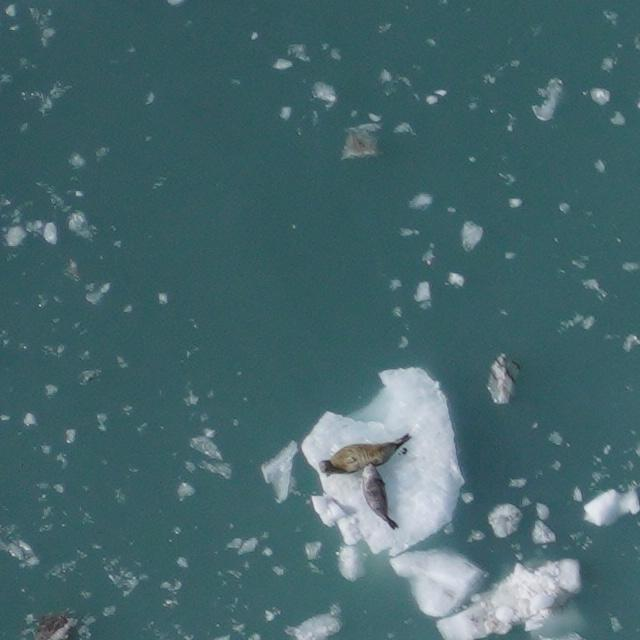seal: (321, 434, 412, 473), (364, 464, 399, 531)
